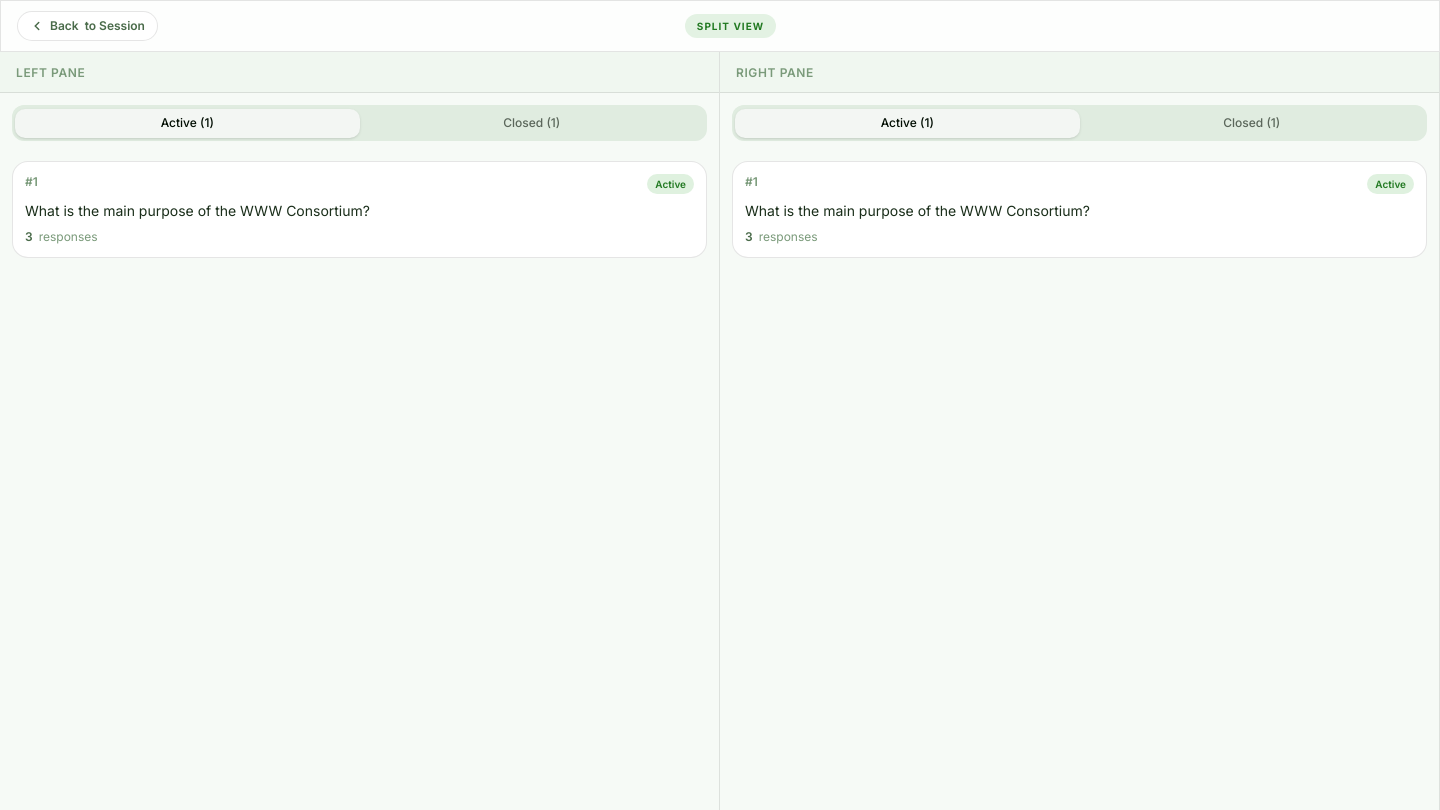
SplitView Component › Discussion Detail View › [US 1.37][US 1.39] returns to discussion list when pane back button is clicked
Click the 1st text "What is the main purpose of the WWW Consortium?": click(198, 210) [25,202,370,219]
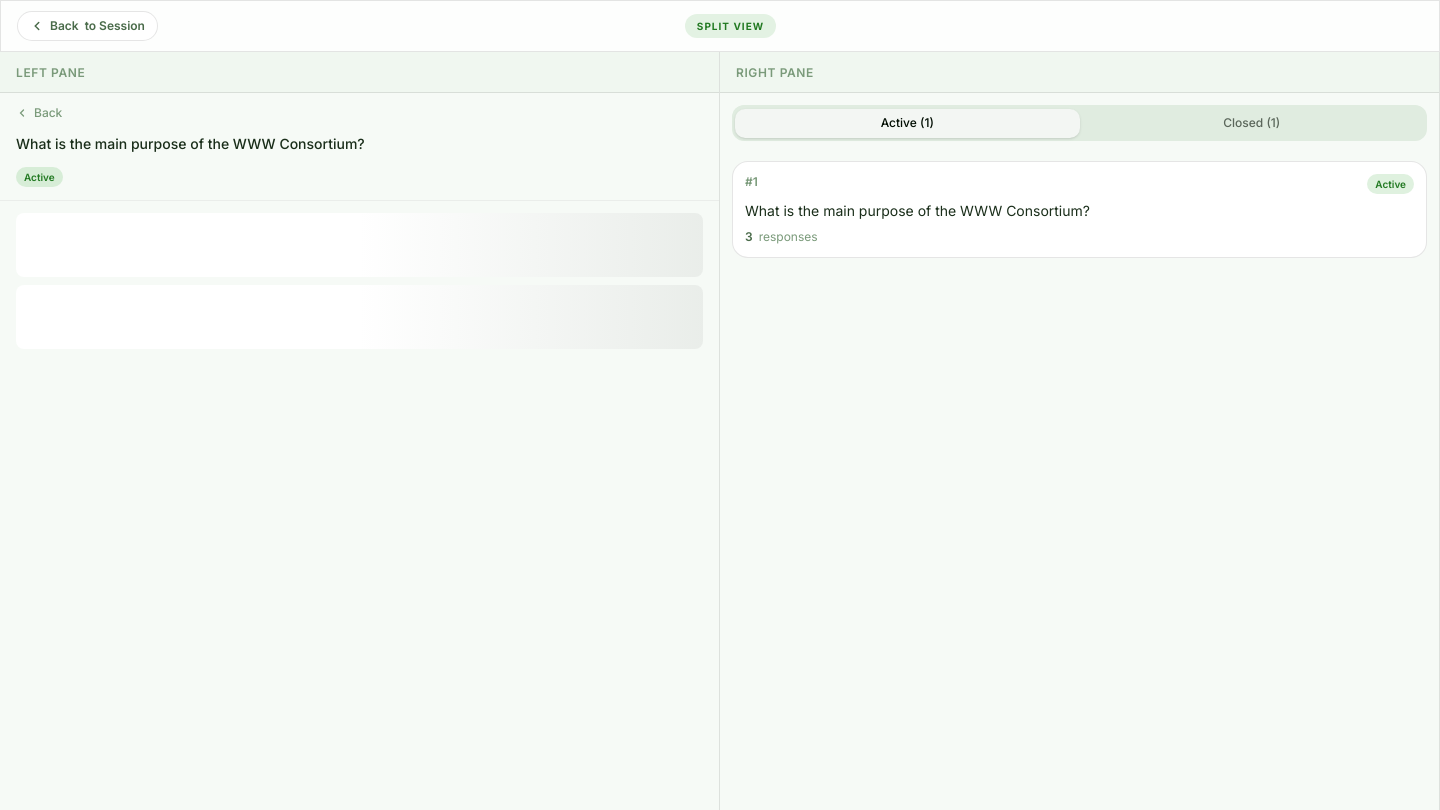
Click the button "Back": click(39, 113) [16,105,62,121]
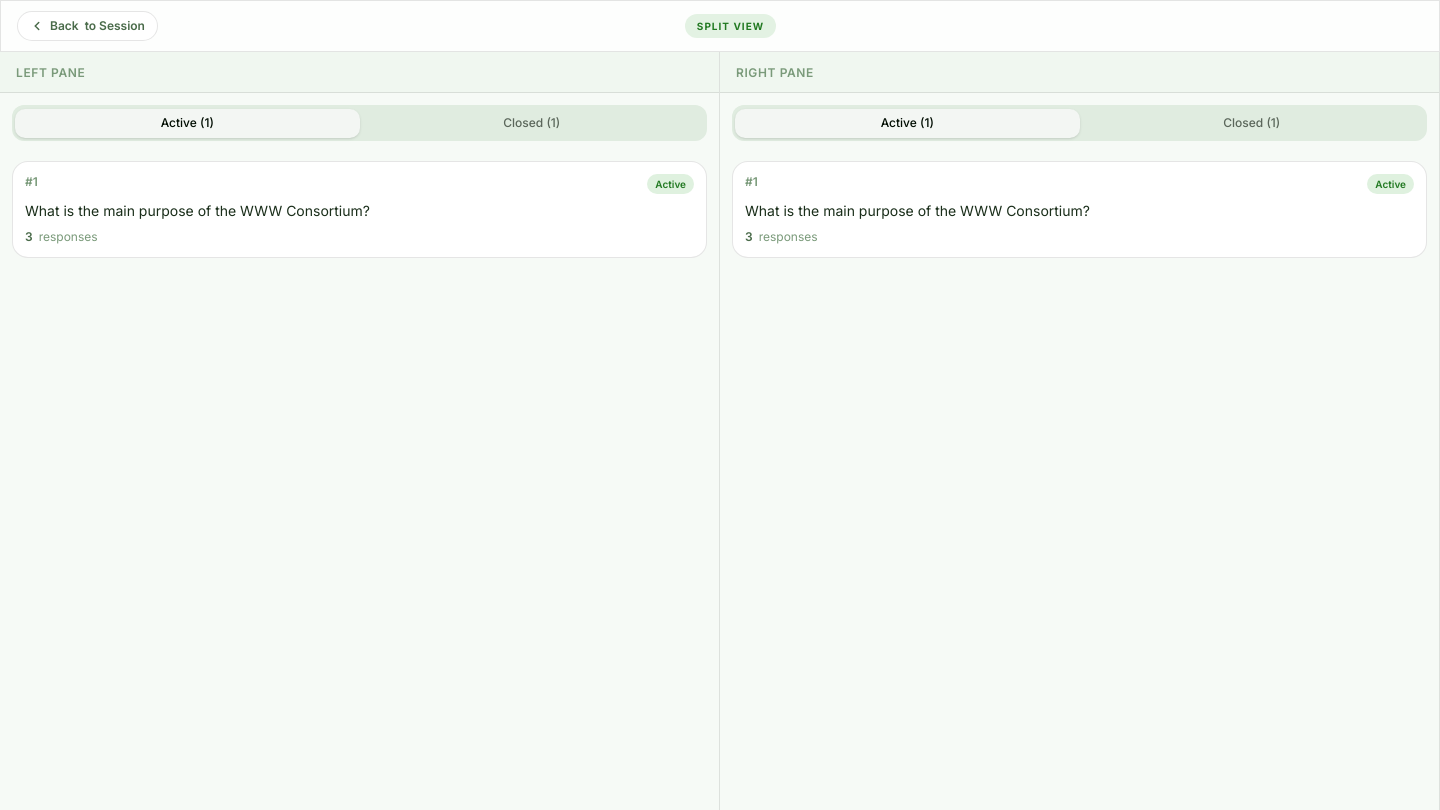
Now the number of tabs "Active (1)" is 2, box [15,108,360,138]; [735,108,1080,138]
